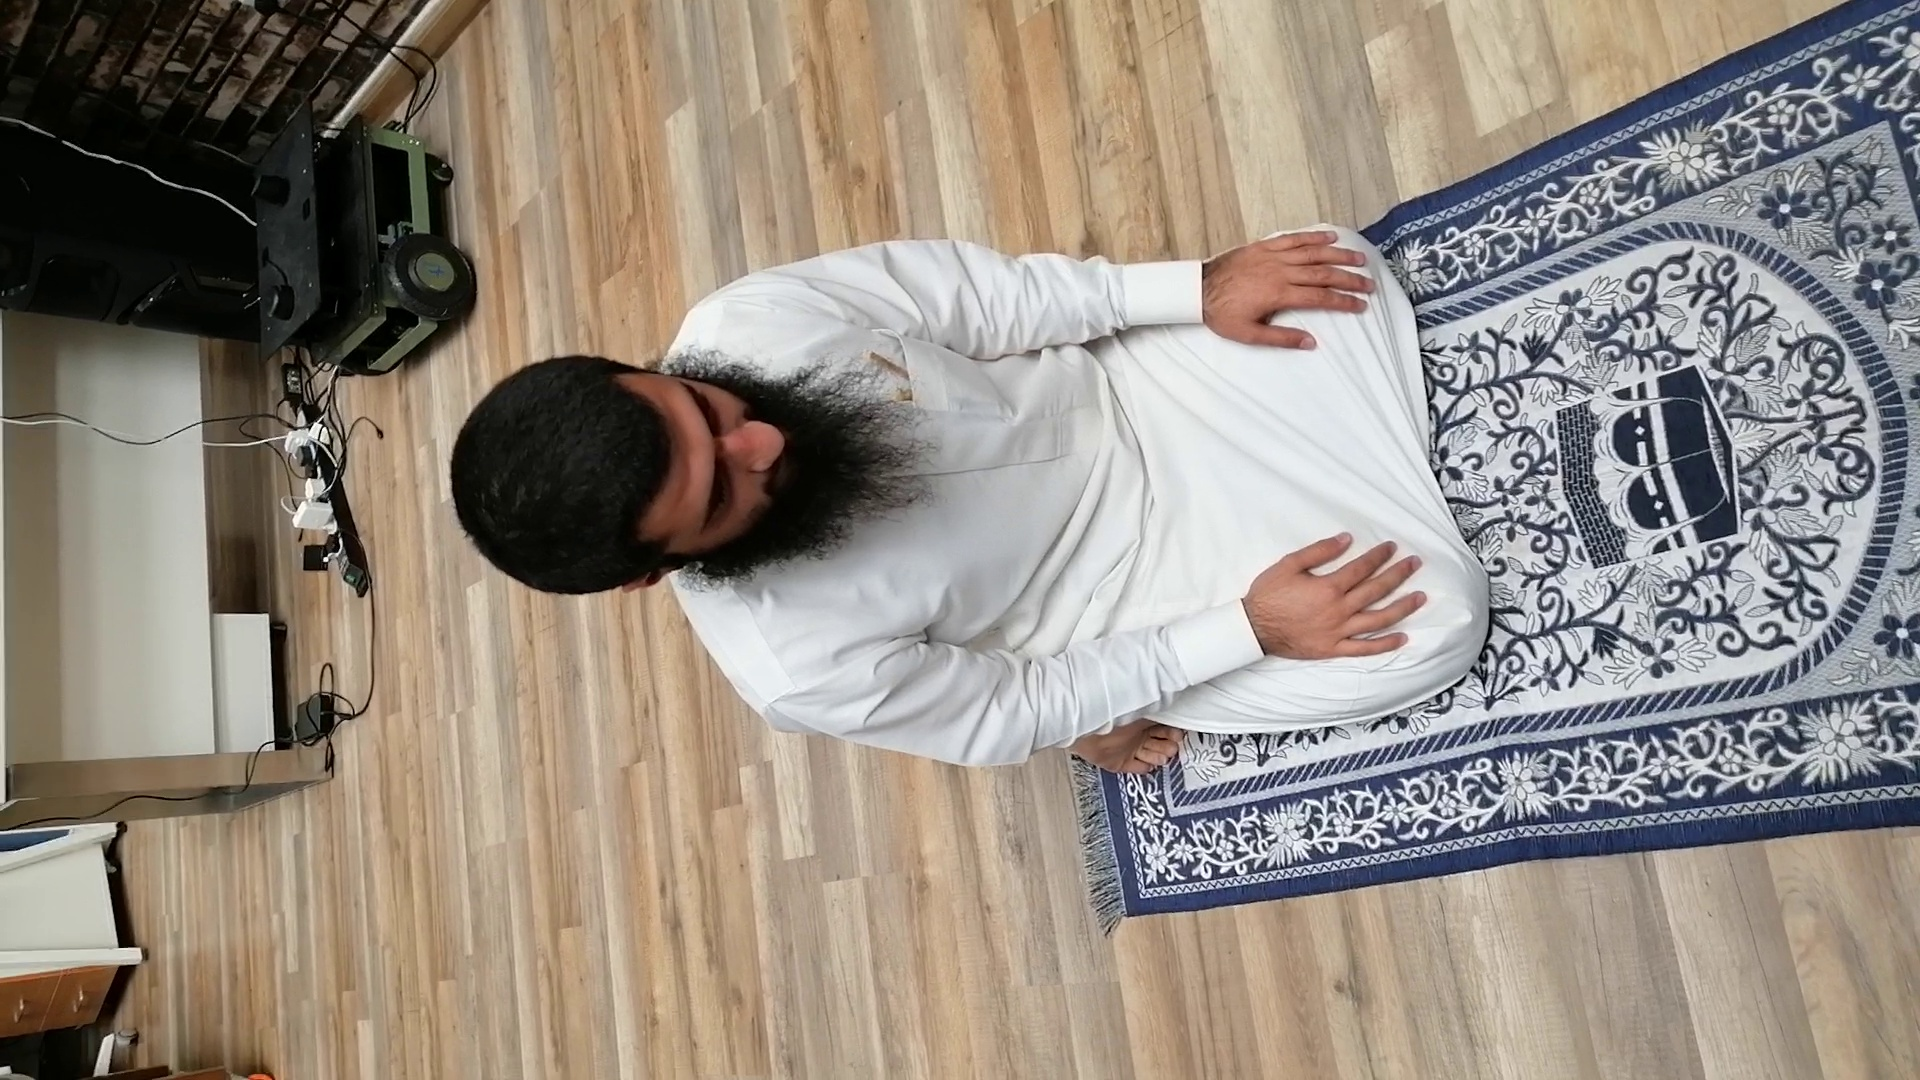sitting: (433, 218, 1494, 822)
